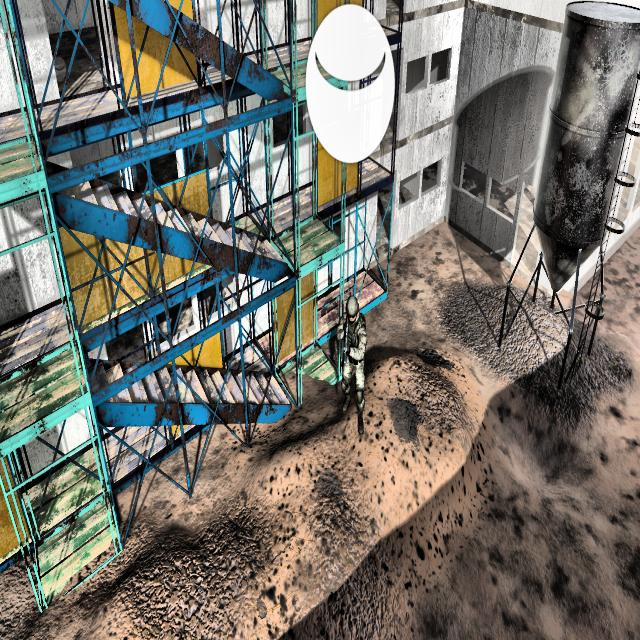bad: (332, 286, 372, 442)
